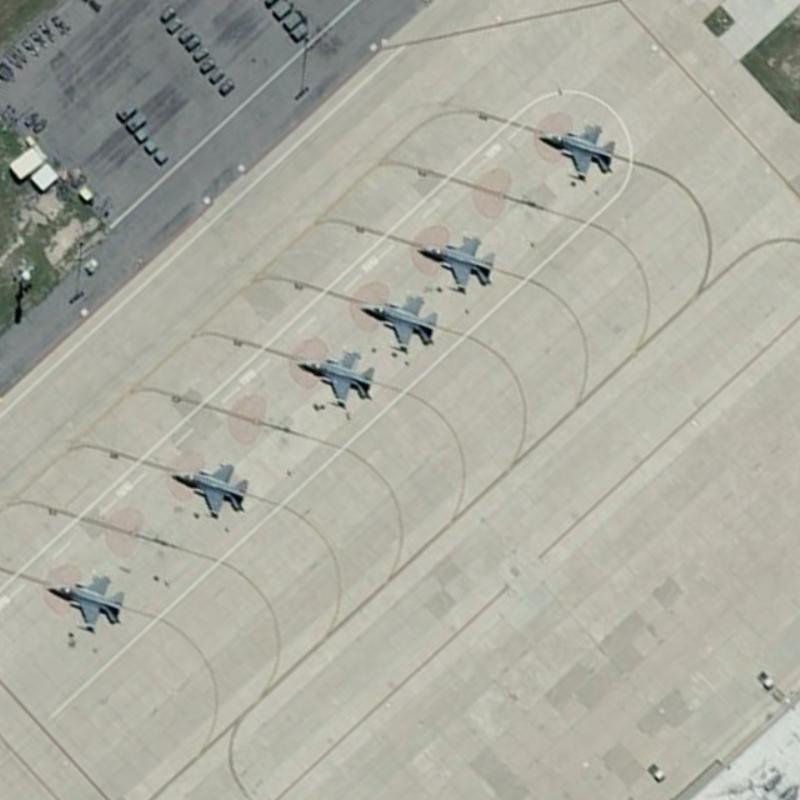A5: (539, 113, 625, 184), (36, 569, 127, 636), (162, 458, 257, 520), (353, 291, 442, 356), (413, 232, 504, 295), (292, 348, 375, 408)
